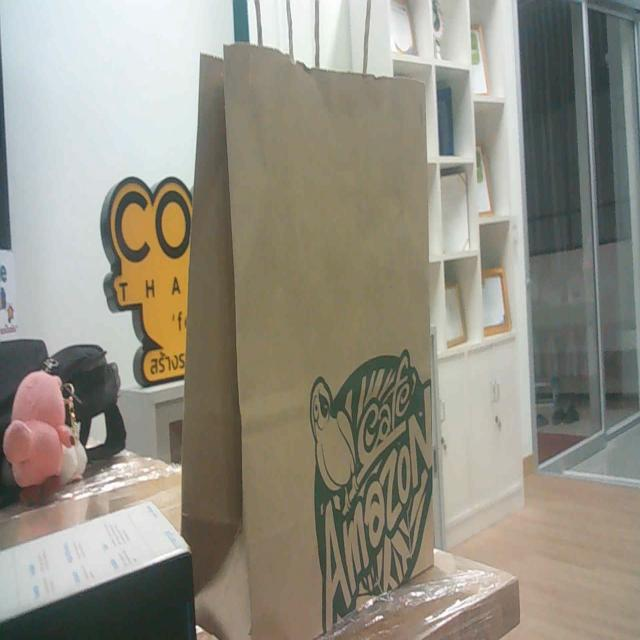bag: (178, 36, 447, 640)
